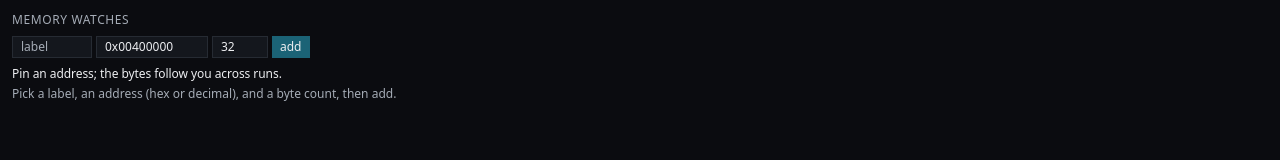
Test: MemoryWatches › removes a watch and empties the store
Type "buf" into the field named "watch label" at (52, 47), box [12,36,92,58]
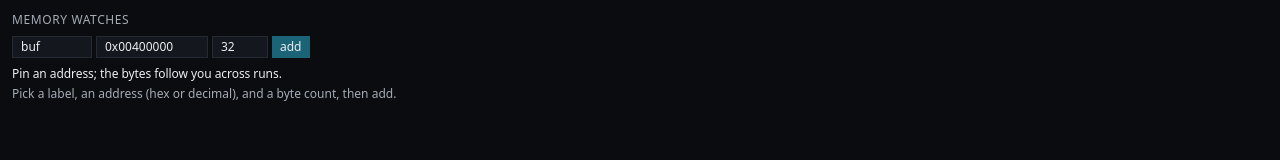
Type "0x00600000" into the field named "watch address" at (152, 47), box [96,36,208,58]
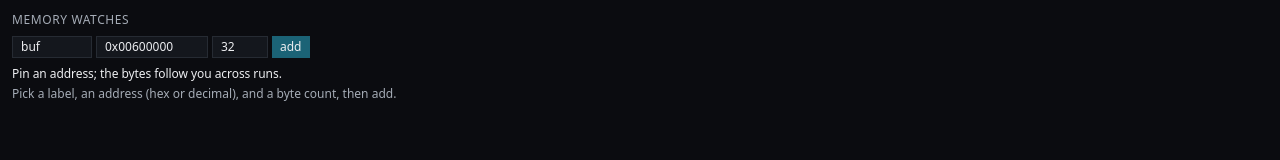
Replace the text in the number field named "watch byte length" with "4" at (240, 47), box [212,36,268,58]
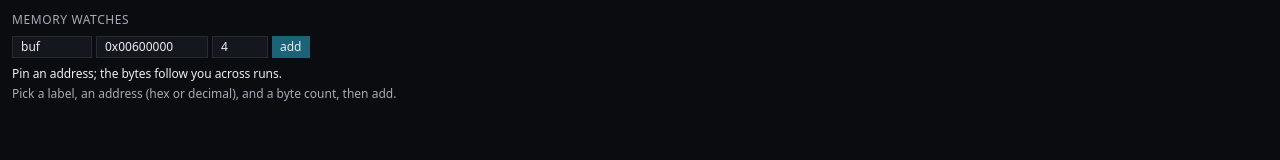
Click the button "add" at (291, 47), box [272,36,310,58]
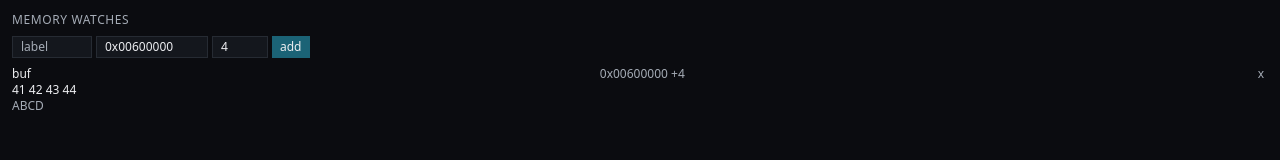
Click the button named "remove memory watch buf" at (1261, 74), box [1254,66,1268,82]
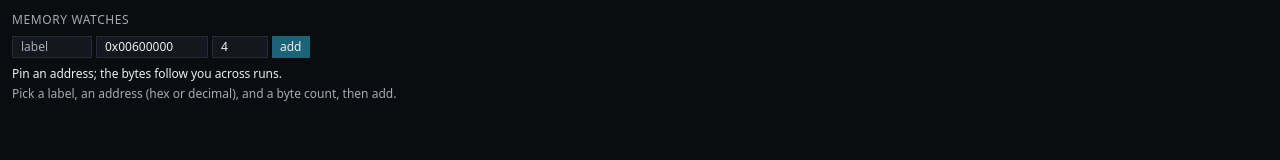
Now the text "buf" is gone
